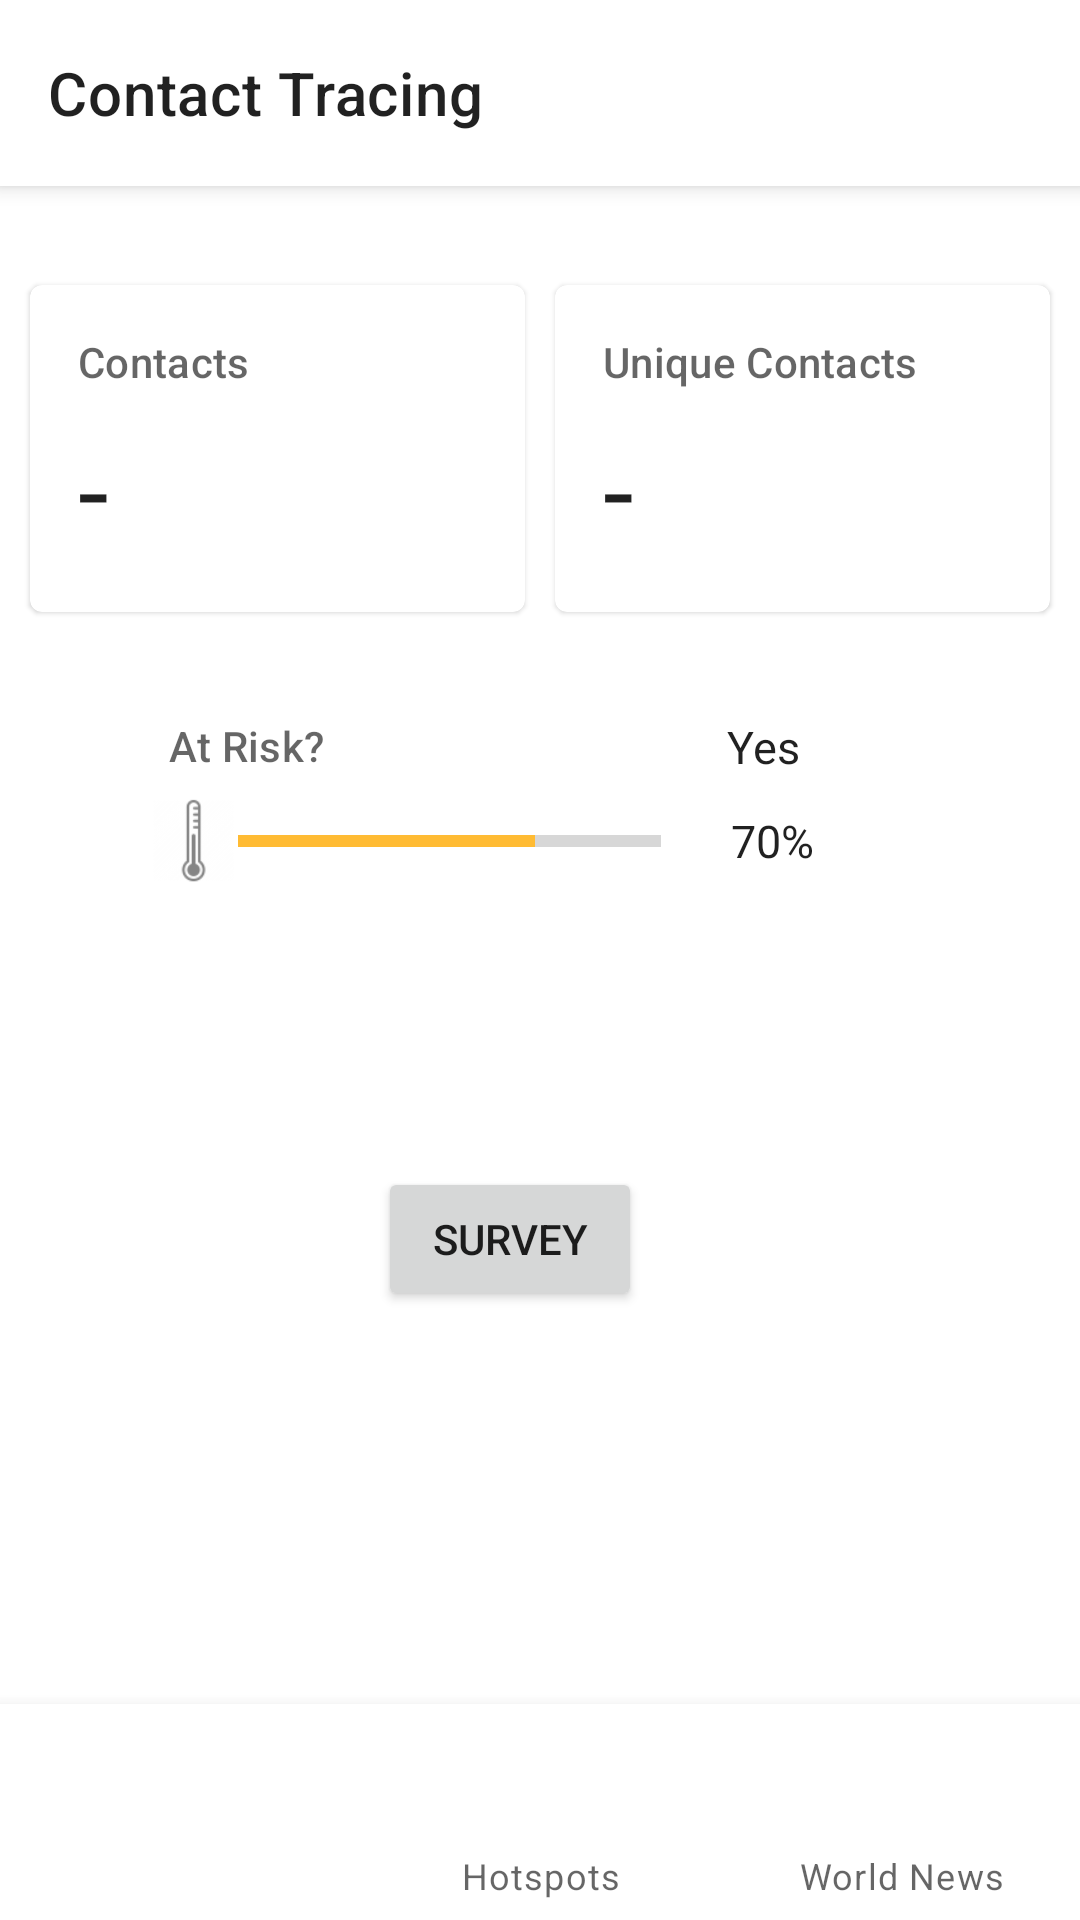

Screen size 1080 x 1920. Icon name, then its center in pixels as (x,y):
thermometer: (194,841)
